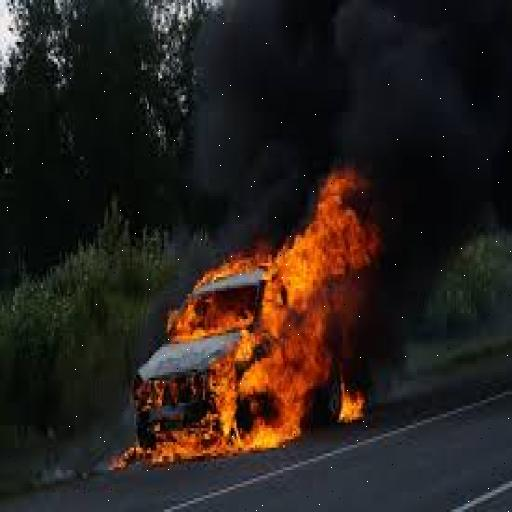fire: (115, 151, 395, 473)
